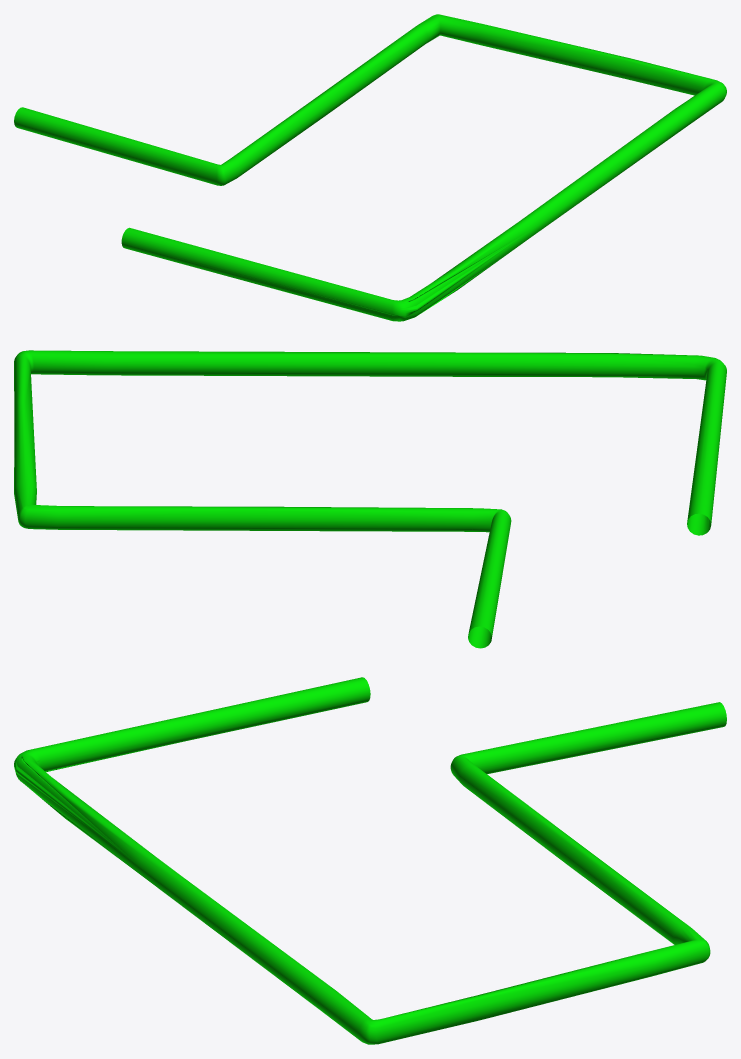
Rendered from StreetRoute.fbx.
3 renders of one model, top to bottom at view 1: azimuth 30°, elevation 25°; view 2: azimuth 150°, elevation 25°; view 3: azimuth 270°, elevation 25°, orthographic. The views are drawn at different scales.
Visible parts, largest first — view 1: StreetRoute; view 2: StreetRoute; view 3: StreetRoute.
Boxes of the visible parts, x1,y1,x2,y2 form: StreetRoute: (14, 14, 726, 321); StreetRoute: (14, 350, 726, 648); StreetRoute: (14, 677, 726, 1044).
Bounding box in the file's own units: 523 × 15.97 × 448.
